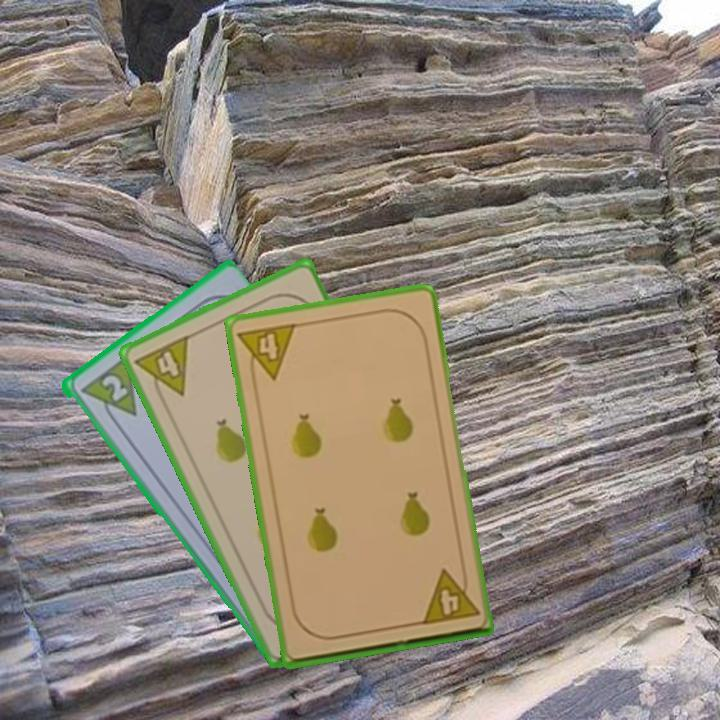2p: (75, 352, 140, 431)
4p: (131, 331, 192, 407), (234, 319, 299, 386), (417, 563, 482, 628)
